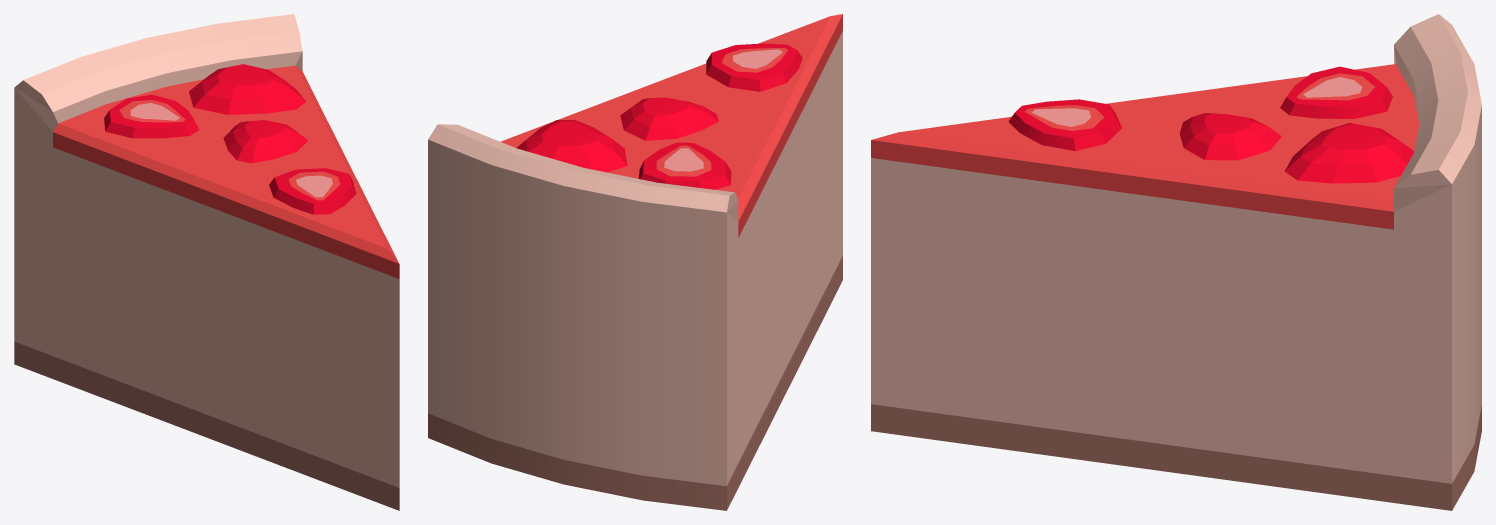
File: PW_cheesecake_strawberry.fbx
3 renders of one model, left to right at view 1: azimuth 30°, elevation 25°; view 2: azimuth 150°, elevation 25°; view 3: azimuth 270°, elevation 25°, orthographic. The views are drawn at different scales.
Parts seen in each view (by area): view 1: cheesecake_strawberry; view 2: cheesecake_strawberry; view 3: cheesecake_strawberry.
Part boxes in pixels (<box>): cheesecake_strawberry: <box>14,14,399,510</box>; cheesecake_strawberry: <box>428,14,842,510</box>; cheesecake_strawberry: <box>871,14,1481,510</box>.
Size of the model in its own units: 20.1 by 19.93 by 32.52.
Materials: 1 (1 with a texture image).
